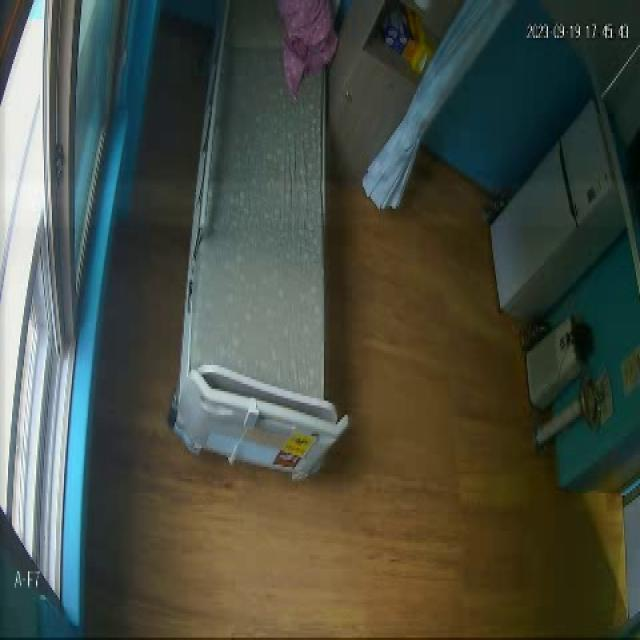bed: (176, 0, 349, 486)
